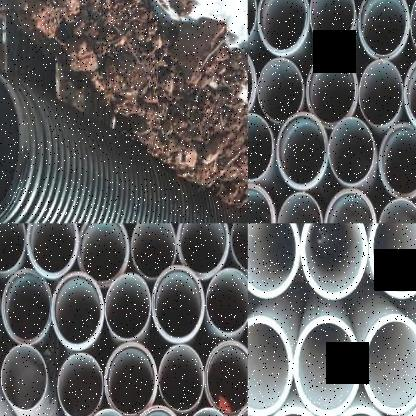pipe: (294, 315, 361, 416), (362, 314, 416, 415), (301, 223, 367, 300), (248, 316, 292, 416), (152, 265, 205, 342), (103, 341, 157, 416), (52, 272, 104, 349), (0, 64, 25, 223), (248, 223, 300, 299), (276, 113, 328, 188), (306, 53, 358, 128), (368, 223, 416, 300), (2, 269, 51, 341), (205, 340, 248, 416), (328, 118, 375, 185), (1, 344, 48, 411), (159, 343, 204, 412), (78, 224, 128, 286), (105, 273, 151, 340), (257, 0, 310, 56), (360, 59, 403, 128), (258, 58, 304, 122), (57, 352, 103, 416), (176, 224, 230, 278), (359, 0, 410, 56), (26, 224, 78, 278), (206, 268, 248, 334), (379, 122, 416, 195), (131, 224, 176, 280), (310, 0, 355, 46), (324, 189, 376, 223), (248, 113, 273, 181), (278, 192, 322, 223), (0, 223, 25, 273), (248, 184, 275, 224), (377, 198, 416, 223), (404, 56, 416, 132), (230, 224, 248, 272), (328, 405, 392, 416), (262, 406, 325, 416), (248, 41, 256, 116), (132, 405, 186, 416), (248, 0, 258, 46), (84, 408, 132, 416), (184, 408, 232, 416), (410, 0, 416, 55), (397, 405, 416, 416)
